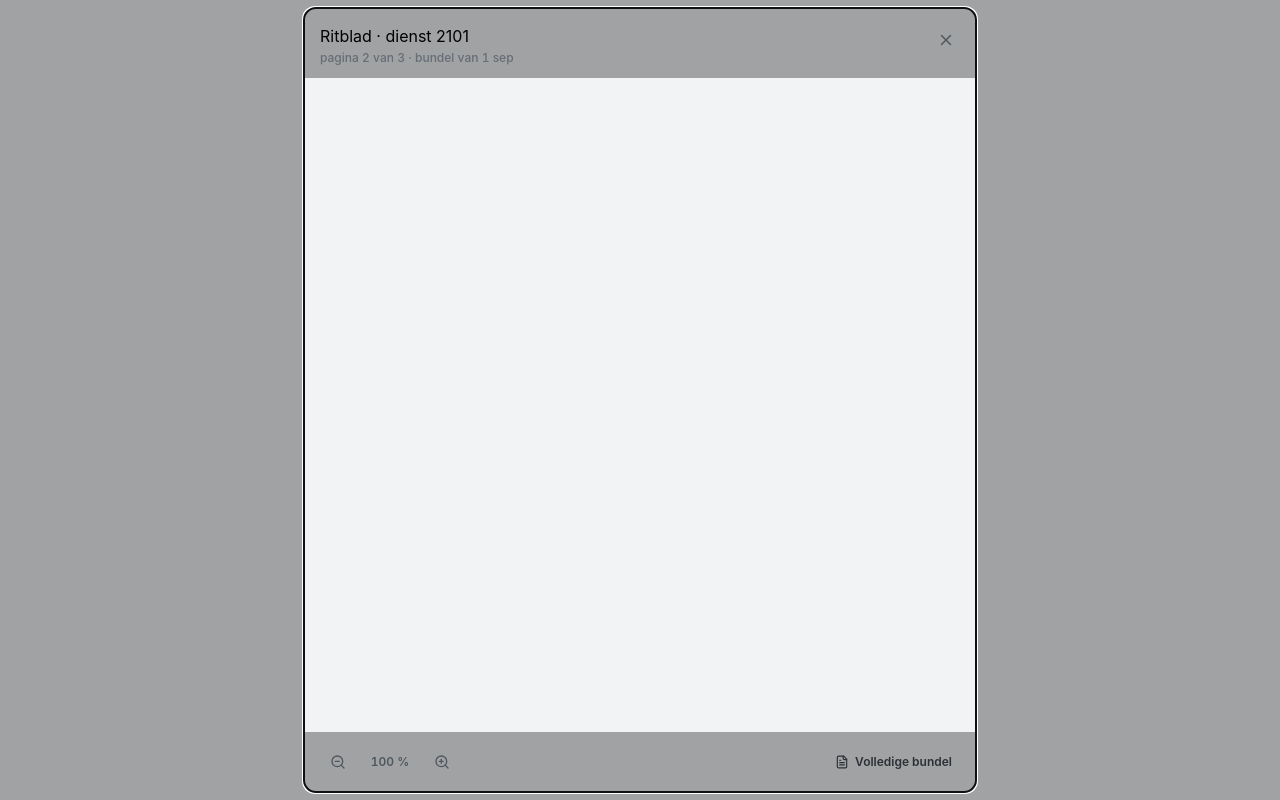
Test: Ritbladviewer: volledige bundel openen › toont de hele bundel in de app bij dienstpagina gevonden, zonder de app te verlaten
Click the button "Volledige bundel": {"x": 894, "y": 762} [823,740,964,784]
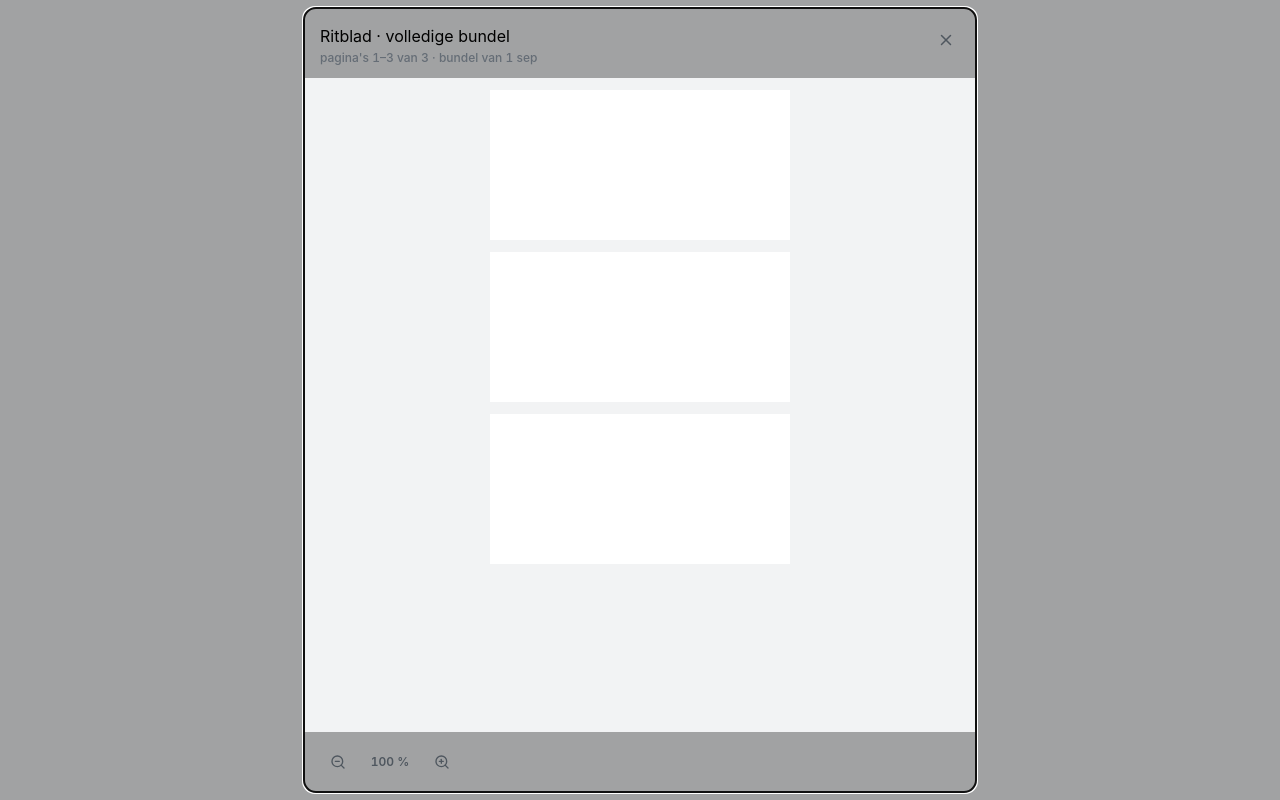
Expected: the heading "Ritblad · volledige bundel" is shown, [320,26,510,46]
Expected: the text "pagina's 1–3 van 3 · bundel van 1 sep" is shown, [320,50,538,65]
